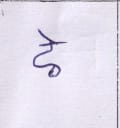e_matra: (38, 29, 54, 42)
